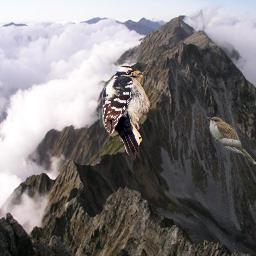Cuckoo: (207, 117, 256, 165)
Woodpecker: (99, 64, 163, 160)
